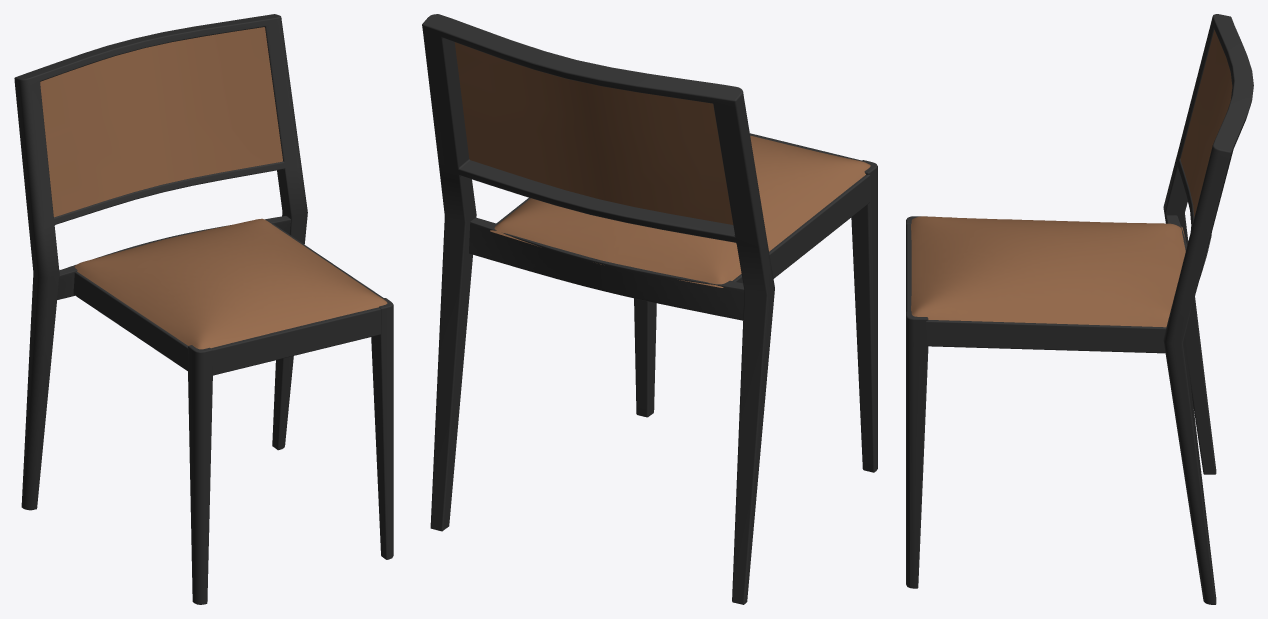
File: compressed_Chair.glb
The picture shows the model from 3 angles, left to right: view 1: azimuth 30°, elevation 25°; view 2: azimuth 150°, elevation 25°; view 3: azimuth 270°, elevation 25°; orthographic projection. The views are drawn at different scales.
Visible parts, largest first — view 1: Cube.006, Plane, Cube.002, Cube.001, Cube.003, Cube.005, Cube.004; view 2: Cube.002, Cube.006, Plane, Cube.004, Cube.001, Cube.005; view 3: Plane, Cube.002, Cube.005, Cube.001, Cube.006, Cube.003.
Part boxes in pixels (x1,y1,x2,y2): Cube.006: (40, 27, 282, 217); Plane: (74, 218, 387, 349); Cube.002: (14, 14, 307, 510); Cube.001: (188, 298, 393, 604); Cube.003: (211, 307, 380, 375); Cube.005: (73, 224, 383, 370); Cube.004: (57, 216, 290, 299); Cube.002: (422, 14, 774, 604); Cube.006: (454, 42, 733, 224); Plane: (490, 135, 870, 287); Cube.004: (469, 217, 744, 320); Cube.001: (634, 160, 877, 472); Cube.005: (496, 174, 870, 283); Plane: (911, 216, 1185, 327); Cube.002: (1163, 14, 1253, 604); Cube.005: (926, 320, 1166, 353); Cube.001: (906, 216, 928, 588); Cube.006: (1180, 30, 1232, 216); Cube.003: (906, 224, 911, 311).
Bounding box in the file's own units: 0.4935 × 0.7516 × 0.5182.
